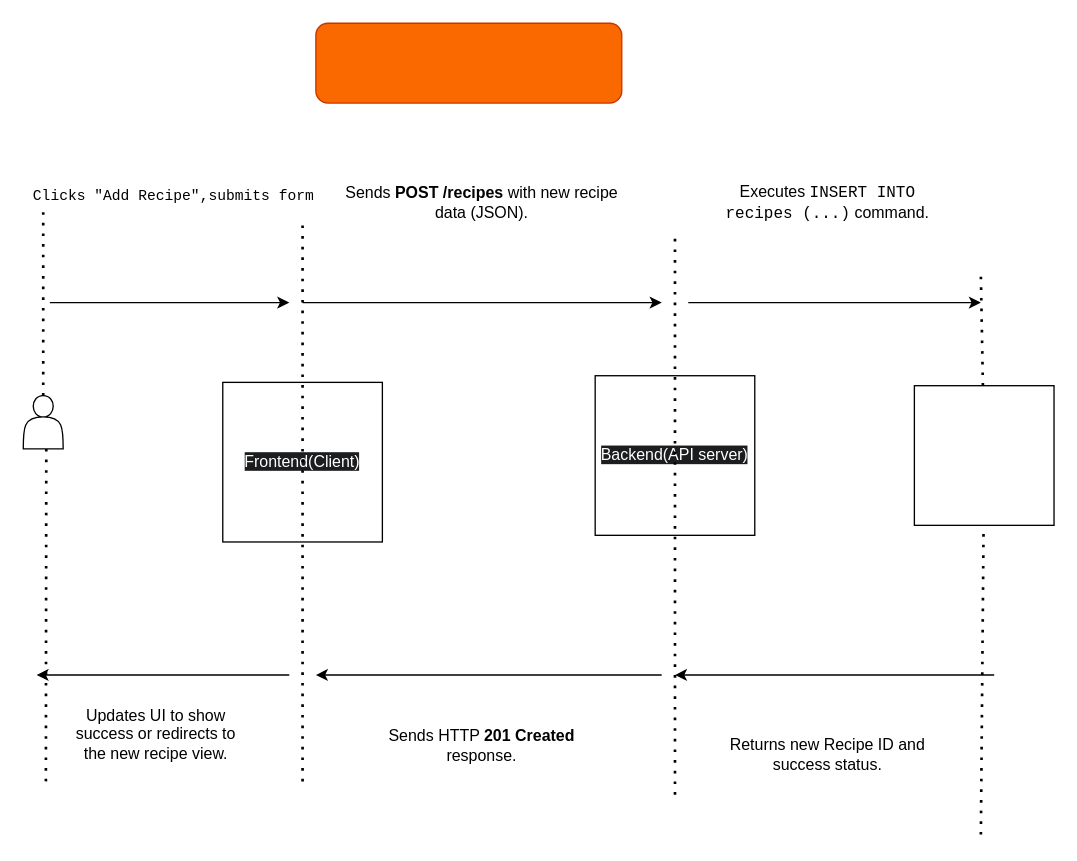
Some shapes in this 1077 by 861 pixel diagram are drawn without their labels. Here are the shapes that lost their labels. From the top down, the centre of each, then its label:
At point 468,62: "Adding a new recipe(Post)".
At point 983,454: "DataBase(fx, MYSQL)".
